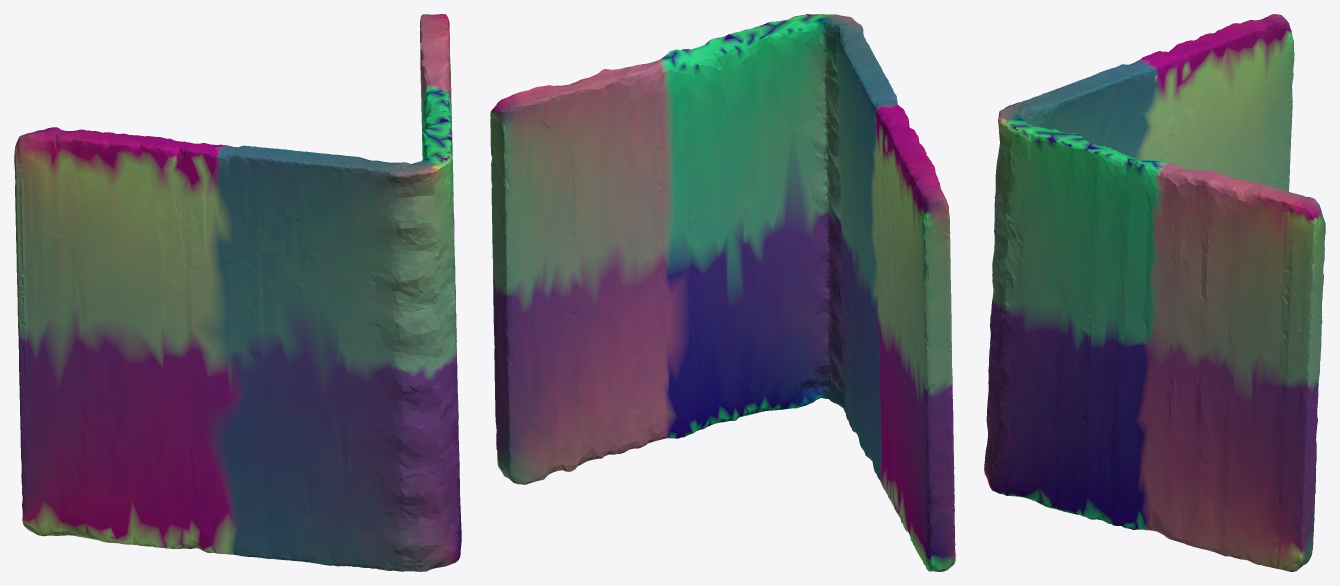
The model's file is paper-5.off.obj.
The picture shows the model from 3 angles, left to right: view 1: azimuth 30°, elevation 25°; view 2: azimuth 150°, elevation 25°; view 3: azimuth 270°, elevation 25°; orthographic projection. The views are drawn at different scales.
Bounding box in the file's own units: 1.26 × 1.08 × 0.8909.
